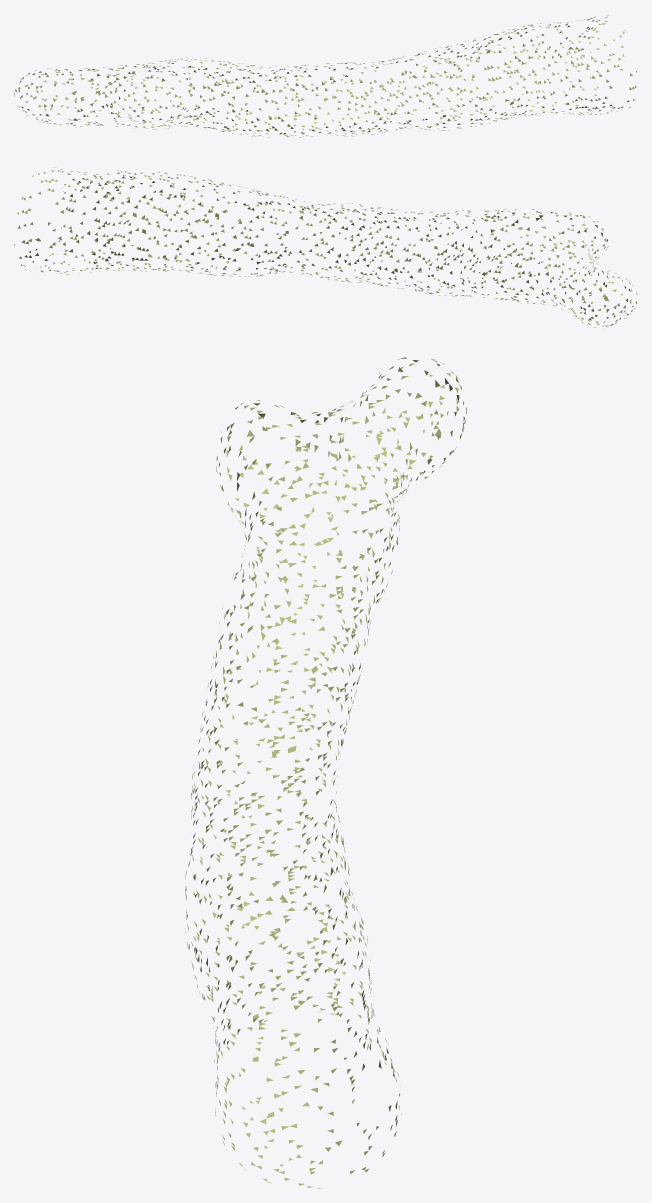
File: morph_010.glb
3 renders of one model, top to bottom at view 1: azimuth 30°, elevation 25°; view 2: azimuth 150°, elevation 25°; view 3: azimuth 270°, elevation 25°, orthographic. The views are drawn at different scales.
Bounding box in the file's own units: 124 × 32.03 × 26.46.
